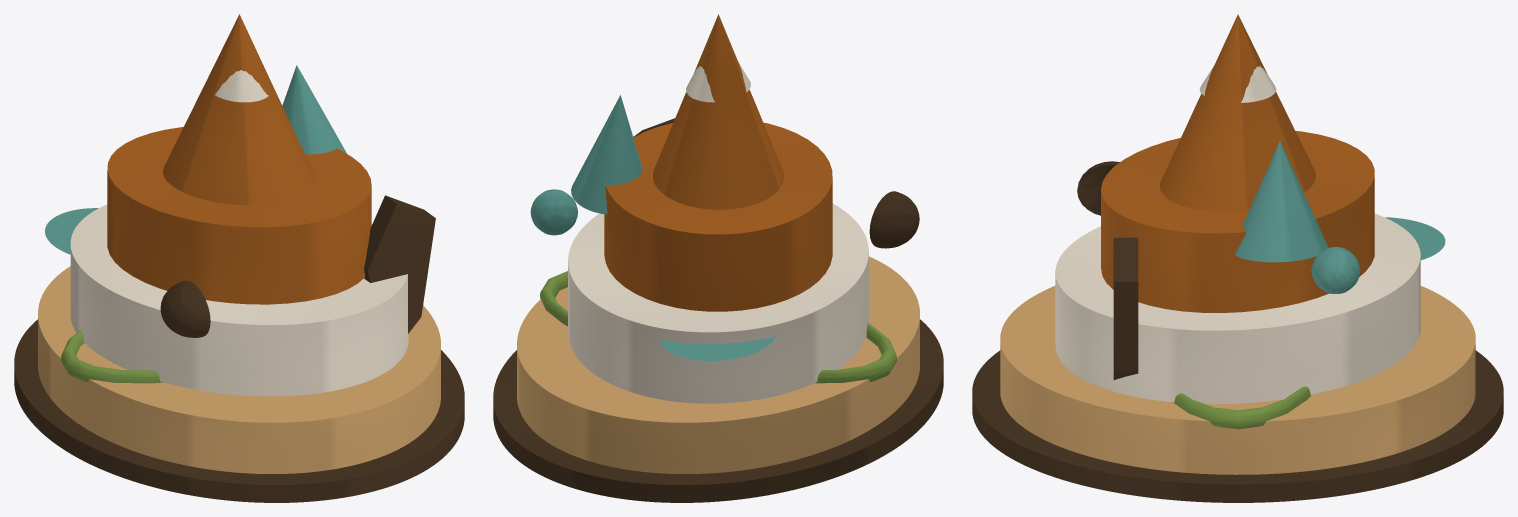
The model's file is 0786_天气与气候图鉴_戈壁沙漠.glb.
3 renders of one model, left to right at view 1: azimuth 30°, elevation 25°; view 2: azimuth 150°, elevation 25°; view 3: azimuth 270°, elevation 25°, orthographic. The views are drawn at different scales.
Visible parts, largest first — view 1: card_0786; view 2: card_0786; view 3: card_0786.
Part boxes in pixels (bbox=[...]): card_0786: bbox=[14, 14, 464, 502]; card_0786: bbox=[493, 14, 943, 502]; card_0786: bbox=[972, 14, 1503, 502].
Size of the model in its own units: 1.01 by 1 by 1.22.
